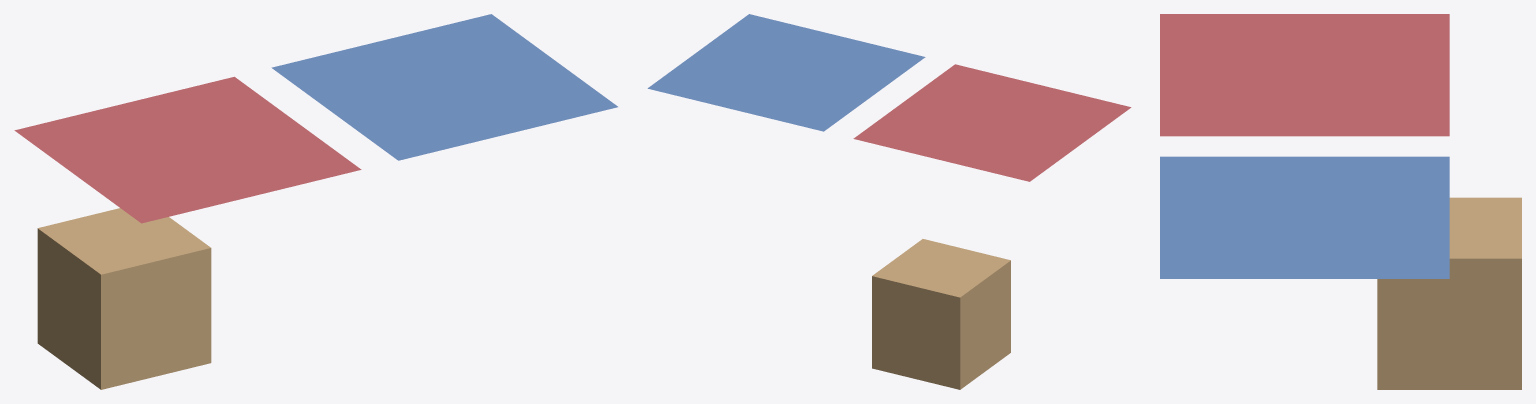
File: cloth.gltf
The picture shows the model from 3 angles, left to right: view 1: azimuth 30°, elevation 25°; view 2: azimuth 150°, elevation 25°; view 3: azimuth 270°, elevation 25°; orthographic projection. The views are drawn at different scales.
Visible parts, largest first — view 1: FABRIC_Flag, FABRIC_Curtain, crate; view 2: FABRIC_Curtain, FABRIC_Flag, crate; view 3: FABRIC_Curtain, FABRIC_Flag, crate.
Boxes of the visible parts, x1,y1,x2,y2 form: FABRIC_Flag: (271, 14, 617, 160); FABRIC_Curtain: (14, 76, 361, 223); crate: (37, 208, 211, 389); FABRIC_Curtain: (853, 64, 1131, 181); FABRIC_Flag: (647, 14, 925, 131); crate: (872, 239, 1010, 389); FABRIC_Curtain: (1160, 14, 1449, 136); FABRIC_Flag: (1160, 156, 1449, 278); crate: (1377, 197, 1521, 389).
Size of what is drawn, in the model's own units: 5.2 by 2.6 by 3.
